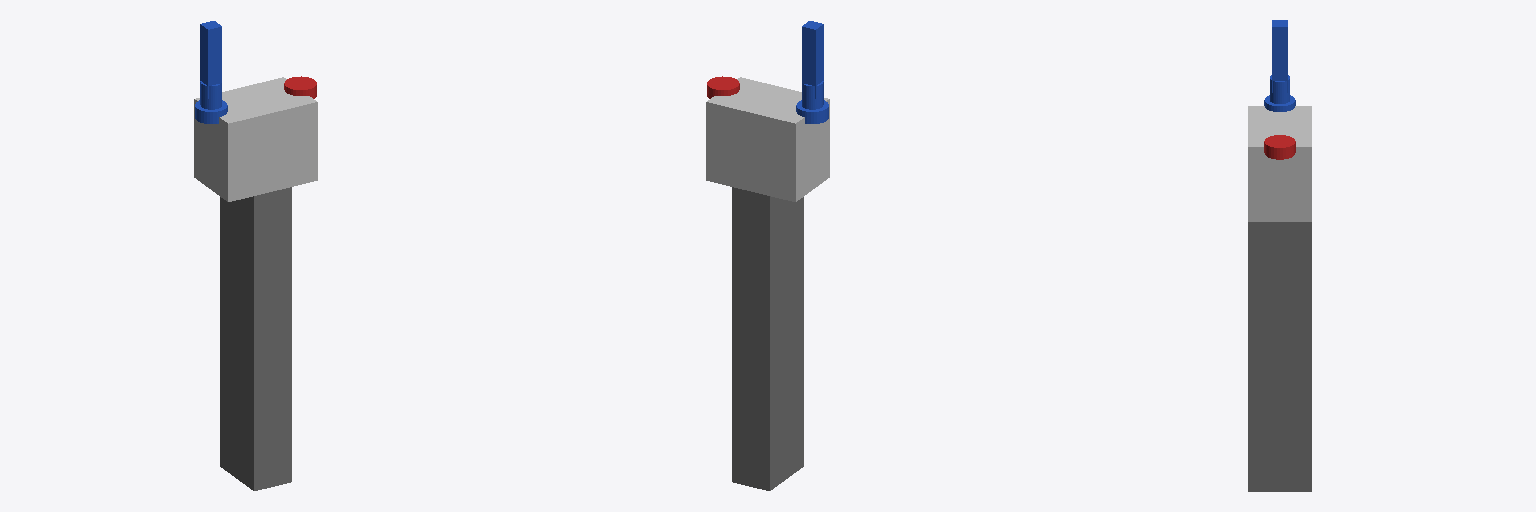
URDF robot description (fr3_dual_arm):
<?xml version="1.0"?>
<robot name="fr3_dual_arm">
  <!-- FR3双臂机器人URDF描述文件 -->
  
  <!-- 基座 -->
  <link name="base_link">
    <visual>
      <geometry>
        <box size="0.16 0.25 1.2"/>  <!-- 支撑柱: 160x250x1200mm -->
      </geometry>
      <material name="gray">
        <color rgba="0.5 0.5 0.5 1"/>
      </material>
    </visual>
  </link>
  
  <!-- 胸部 -->
  <link name="chest">
    <visual>
      <geometry>
        <box size="0.38 0.25 0.32"/>  <!-- 胸部: 380x250x320mm -->
      </geometry>
      <material name="light_gray">
        <color rgba="0.8 0.8 0.8 1"/>
      </material>
    </visual>
  </link>
  
  <!-- 胸部连接到基座 -->
  <joint name="base_to_chest" type="fixed">
    <parent link="base_link"/>
    <child link="chest"/>
    <origin xyz="0 0 0.76" rpy="0 0 0"/>  <!-- 760mm高度 -->
  </joint>
  
  <!-- 左臂基座 -->
  <link name="left_arm_base">
    <visual>
      <geometry>
        <cylinder length="0.05" radius="0.06"/>
      </geometry>
      <material name="blue">
        <color rgba="0.2 0.4 0.8 1"/>
      </material>
    </visual>
  </link>
  
  <!-- 左臂基座连接 -->
  <joint name="chest_to_left_base" type="fixed">
    <parent link="chest"/>
    <child link="left_arm_base"/>
    <origin xyz="-0.19 0 0.16" rpy="0 0 0"/>
  </joint>
  
  <!-- 左臂关节1 -->
  <link name="left_link1">
    <visual>
      <geometry>
        <cylinder length="0.1" radius="0.04"/>
      </geometry>
      <material name="blue"/>
    </visual>
  </link>
  
  <joint name="left_joint1" type="revolute">
    <parent link="left_arm_base"/>
    <child link="left_link1"/>
    <origin xyz="0 0 0.07" rpy="0 0 0"/>
    <axis xyz="0 0 1"/>
    <limit lower="-3.14" upper="3.14" effort="100" velocity="1.0"/>
  </joint>
  
  <!-- 左臂连杆2 -->
  <link name="left_link2">
    <visual>
      <geometry>
        <box size="0.06 0.06 0.28"/>
      </geometry>
      <material name="blue"/>
    </visual>
  </link>
  
  <joint name="left_joint2" type="revolute">
    <parent link="left_link1"/>
    <child link="left_link2"/>
    <origin xyz="0 0 0.14" rpy="0 0 0"/>
    <axis xyz="0 1 0"/>
    <limit lower="-2.0" upper="2.0" effort="100" velocity="1.0"/>
  </joint>
  
  <!-- 继续定义其他关节... -->
  
  <!-- 右臂基座 -->
  <link name="right_arm_base">
    <visual>
      <geometry>
        <cylinder length="0.05" radius="0.06"/>
      </geometry>
      <material name="red">
        <color rgba="0.8 0.2 0.2 1"/>
      </material>
    </visual>
  </link>
  
  <!-- 右臂基座连接 -->
  <joint name="chest_to_right_base" type="fixed">
    <parent link="chest"/>
    <child link="right_arm_base"/>
    <origin xyz="0.19 0 0.16" rpy="0 0 0"/>
  </joint>
  
  <!-- 右臂关节定义类似左臂... -->
  
</robot>

--- What the picture shows (computed from the rendered views, not written in the file) ---
Views: 3 orthographic renders of the robot side by side, from view 1: azimuth 30°, elevation 25°; view 2: azimuth 150°, elevation 25°; view 3: azimuth 270°, elevation 25°.
Model fr3_dual_arm with 6 links and 5 joints (2 revolute, 3 fixed), rooted at base_link, posed all joints at 0.
Links seen in each view (by area): view 1: base_link, chest, left_link2, right_arm_base, left_link1; view 2: base_link, chest, left_link2, right_arm_base, left_link1; view 3: base_link, chest, left_link2, right_arm_base.
Link boxes in pixels (x1,y1,x2,y2): base_link: (220, 187, 291, 490); chest: (194, 77, 317, 201); left_link2: (200, 21, 221, 98); right_arm_base: (284, 76, 316, 98); left_link1: (200, 81, 221, 109); base_link: (732, 187, 803, 490); chest: (706, 77, 829, 201); left_link2: (802, 21, 823, 98); right_arm_base: (707, 76, 739, 98); left_link1: (802, 81, 823, 109); base_link: (1248, 222, 1311, 491); chest: (1248, 106, 1311, 221); left_link2: (1272, 20, 1287, 92); right_arm_base: (1264, 135, 1295, 159).
Bounding box of the posed robot: 0.5 × 0.25 × 1.87 m (x, y, z).
Geometry: primitives only (box / cylinder / sphere), no mesh files.
